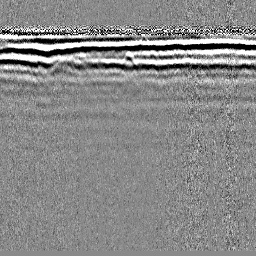cavity: (119, 49, 137, 69)
